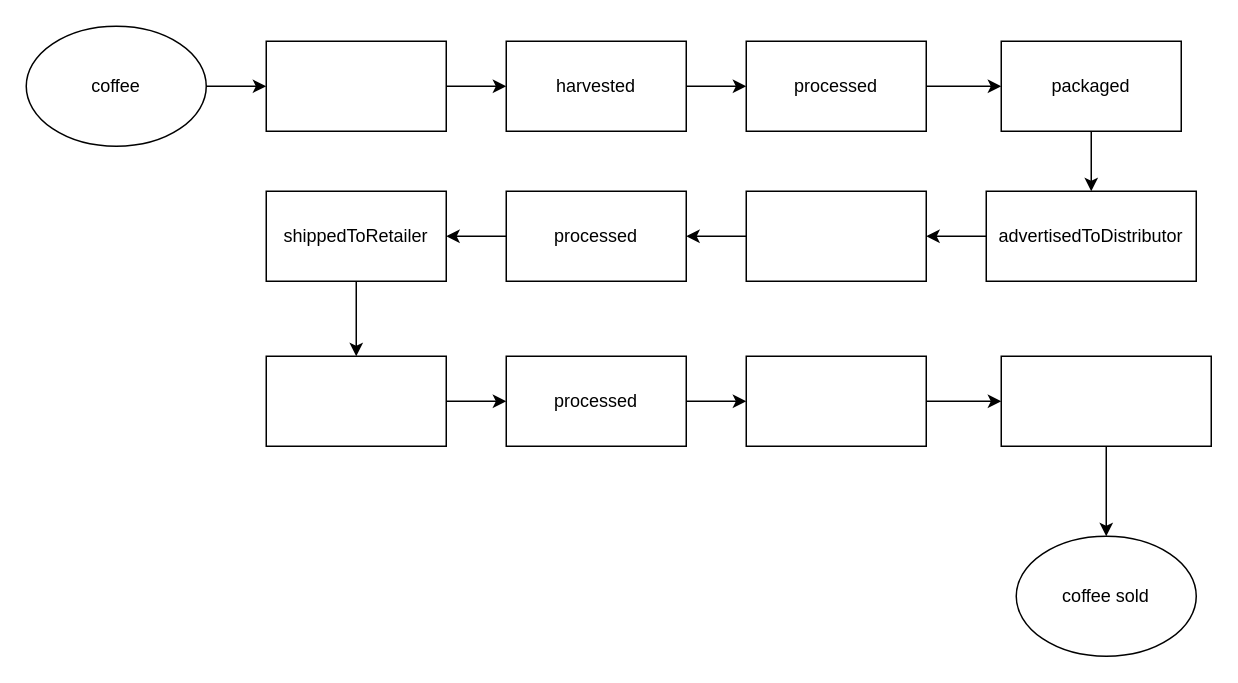
Image size: 1238x683. Some labels were removed from this diagram. The shapes that lost their labels are listed below. From the top down, each one's box as (x1, y1, x2, y2) in pixels, then its label:
(265, 40, 446, 131): growing
(745, 190, 926, 281): soldToDistributor
(265, 355, 446, 446): receivedToRetailer
(745, 355, 926, 446): soldToConsumer
(1000, 355, 1211, 446): purchasedToConsumer
